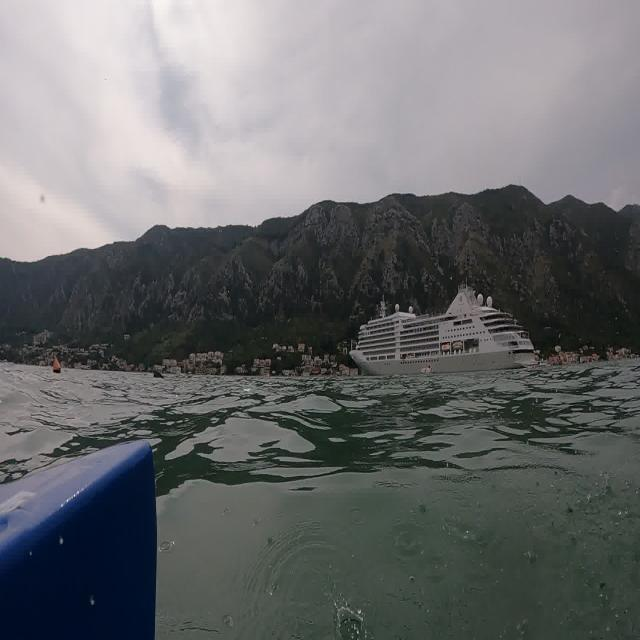boat: (347, 277, 539, 377)
buoy: (50, 353, 64, 380)
